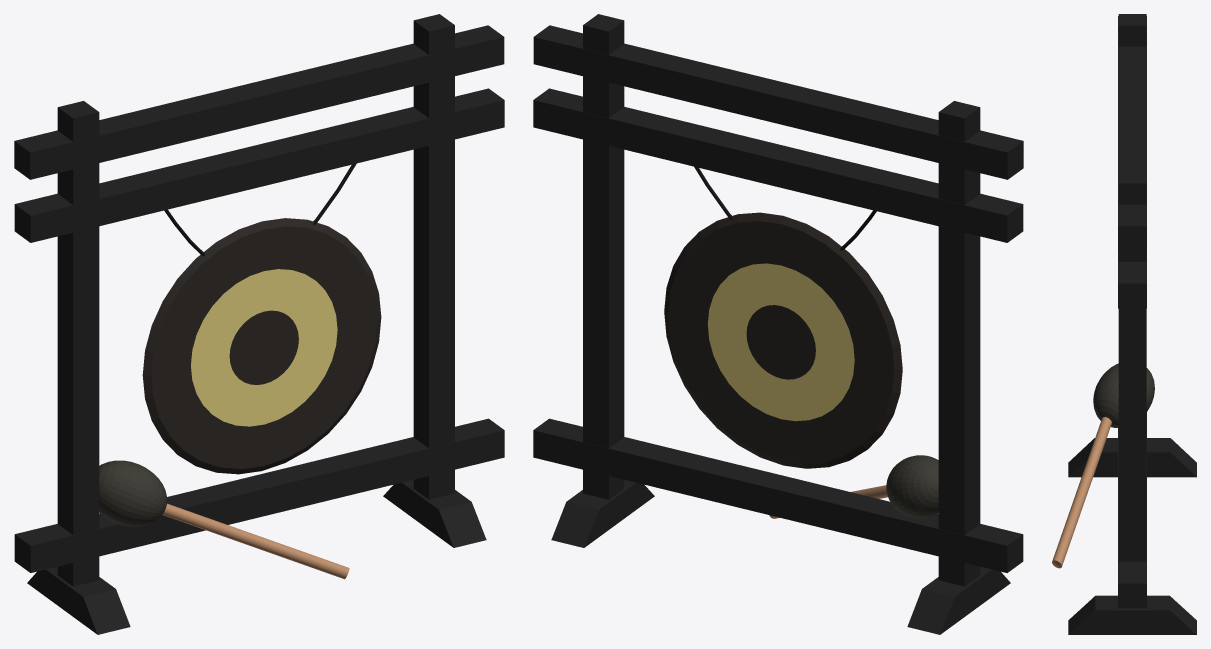
File: gong.glb
3 renders of one model, left to right at view 1: azimuth 30°, elevation 25°; view 2: azimuth 150°, elevation 25°; view 3: azimuth 270°, elevation 25°, orthographic. The views are drawn at different scales.
Parts seen in each view (by area): view 1: Cube.001, Circle, Sphere; view 2: Cube.001, Circle, Sphere; view 3: Cube.001, Sphere.
Part boxes in pixels (box(x1,y1,x2,y2)): Cube.001: box(14, 14, 504, 634); Circle: box(142, 218, 381, 474); Sphere: box(99, 460, 349, 579); Cube.001: box(533, 14, 1023, 634); Circle: box(664, 212, 902, 468); Sphere: box(769, 455, 938, 518); Cube.001: box(1068, 14, 1196, 634); Sphere: box(1052, 363, 1154, 568).
Bounding box in the file's own units: 2.91 × 2.91 × 0.8483.
